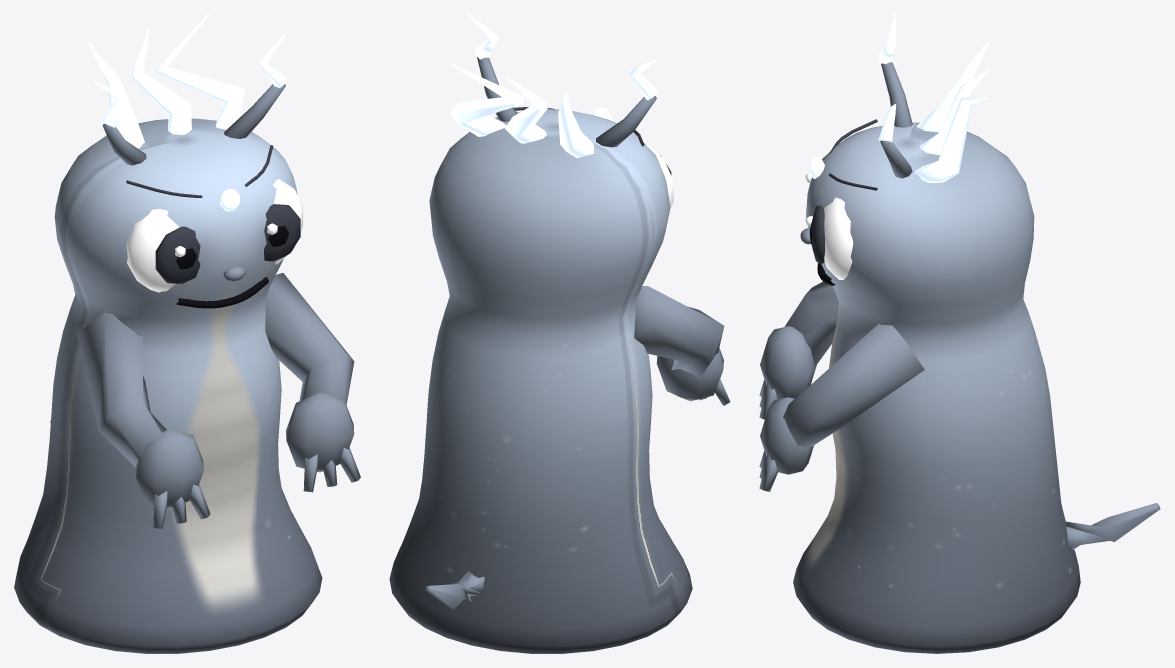
The model's file is tornado_pixar.glb.
3 renders of one model, left to right at view 1: azimuth 30°, elevation 25°; view 2: azimuth 150°, elevation 25°; view 3: azimuth 270°, elevation 25°, orthographic. The views are drawn at different scales.
Parts seen in each view (by area): view 1: tornado_cuerpo; view 2: tornado_cuerpo; view 3: tornado_cuerpo.
Boxes of the visible parts, box(x1,y1,x2,y2) form: tornado_cuerpo: box(14, 14, 360, 653); tornado_cuerpo: box(389, 14, 730, 653); tornado_cuerpo: box(759, 14, 1160, 653).
Bounding box in the file's own units: 0.2973 × 0.58 × 0.3947.
5 materials, 1 textured.
